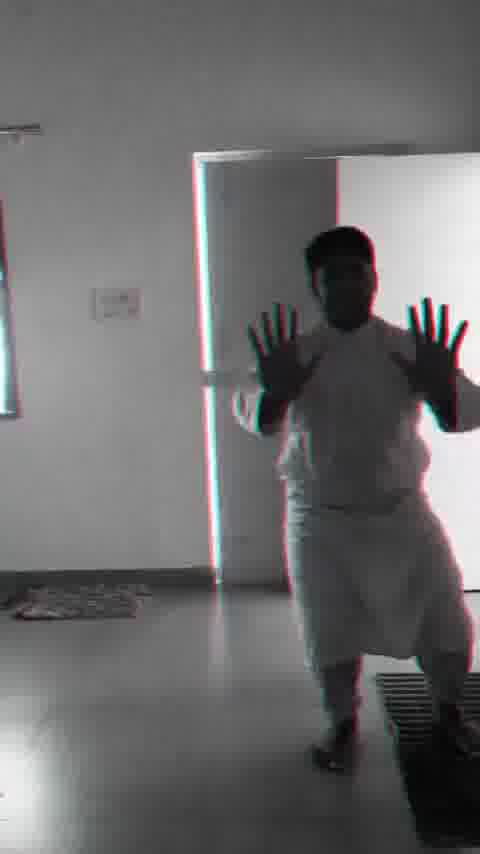duck: (235, 206, 480, 783)
